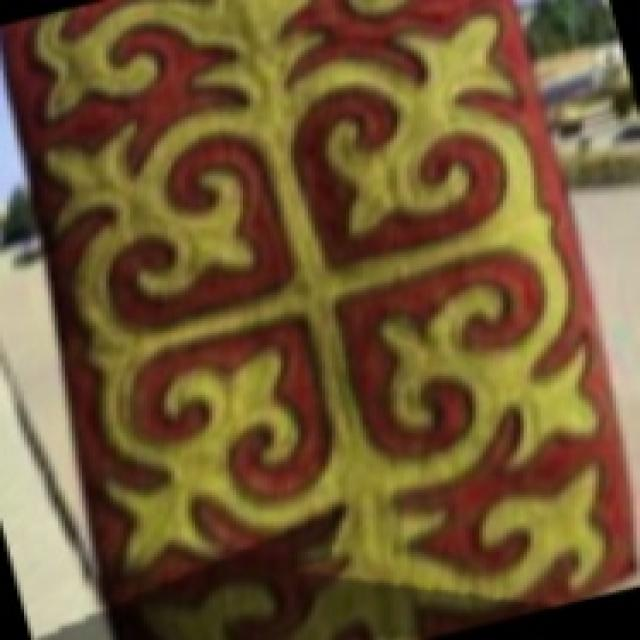Unity: (16, 1, 624, 599)
